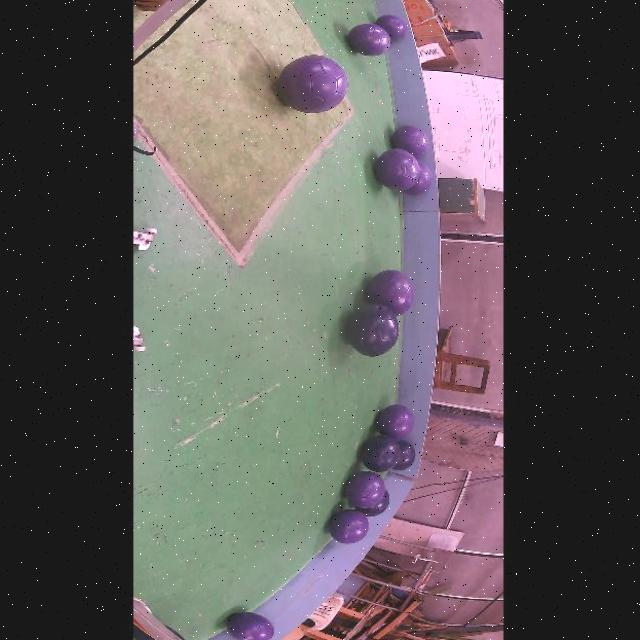B: (346, 303, 399, 356), (361, 434, 401, 472), (355, 490, 390, 517), (393, 441, 416, 470)
P: (278, 55, 348, 113), (366, 270, 415, 316), (375, 149, 420, 190), (345, 472, 385, 508), (377, 405, 415, 441), (348, 24, 390, 56), (330, 509, 368, 544), (227, 612, 274, 640), (390, 126, 429, 158), (403, 161, 431, 195), (375, 15, 407, 38)
